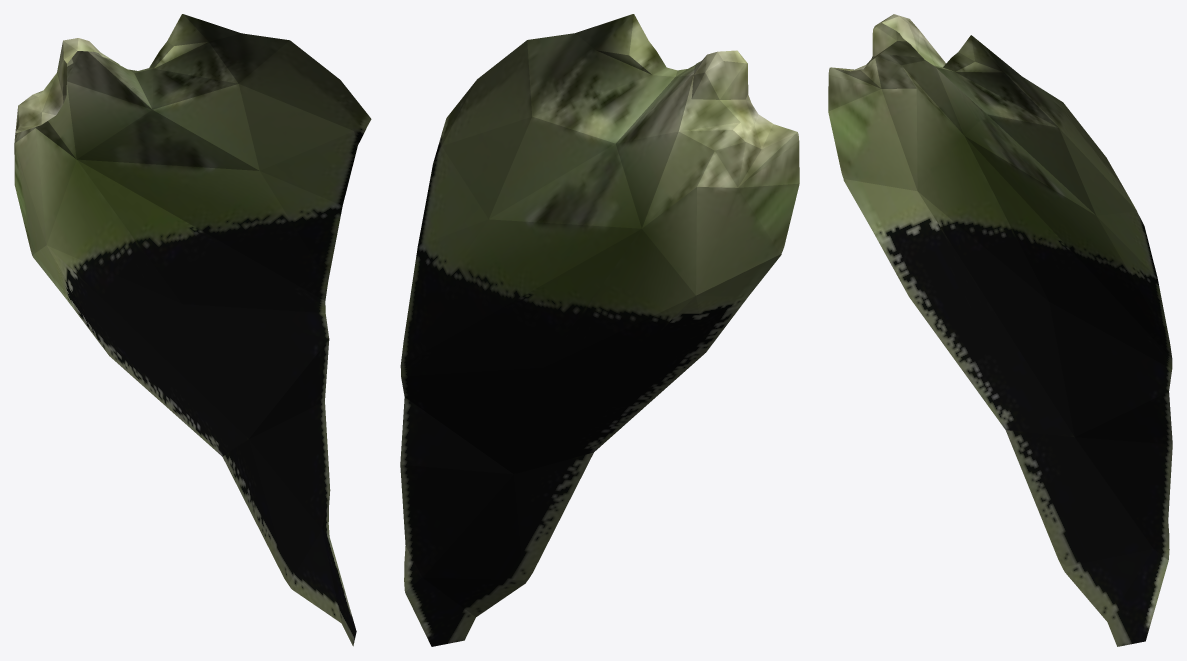
3 renders of one model, left to right at view 1: azimuth 30°, elevation 25°; view 2: azimuth 150°, elevation 25°; view 3: azimuth 330°, elevation 25°, orthographic. The views are drawn at different scales.
Bounding box in the file's own units: 2.69 × 4.86 × 0.6368.
1 material, 1 textured.
